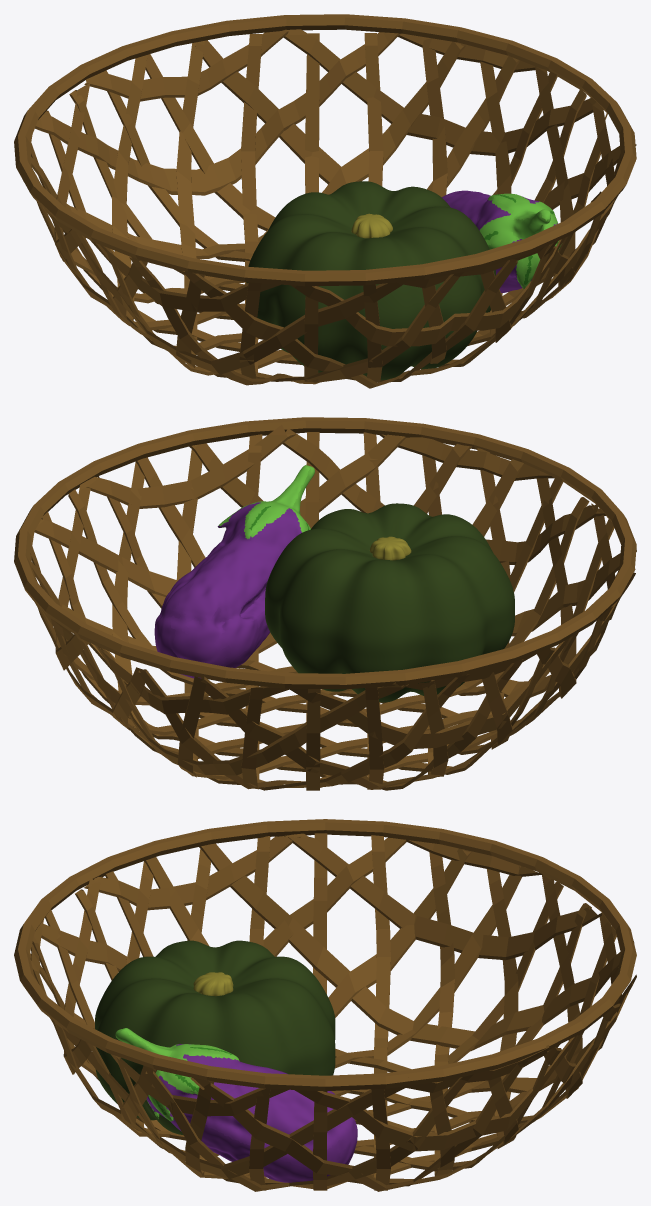
Rendered from hanoakago2.fbx.
The picture shows the model from 3 angles, top to bottom: view 1: azimuth 30°, elevation 25°; view 2: azimuth 150°, elevation 25°; view 3: azimuth 270°, elevation 25°; orthographic projection.
Visible parts, largest first — view 1: トーラス; view 2: トーラス; view 3: トーラス.
Part boxes in pixels (x1=…): トーラス: x1=14, y1=14, x2=636, y2=388; トーラス: x1=14, y1=417, x2=636, y2=790; トーラス: x1=14, y1=819, x2=636, y2=1191.
Bounding box in the file's own units: 2002 × 2002 × 615.
